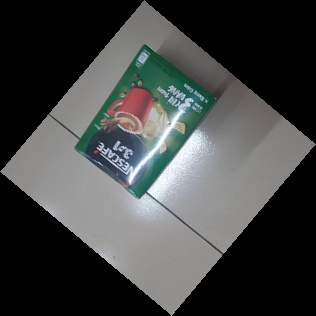Nes Rang: (74, 45, 218, 200)
